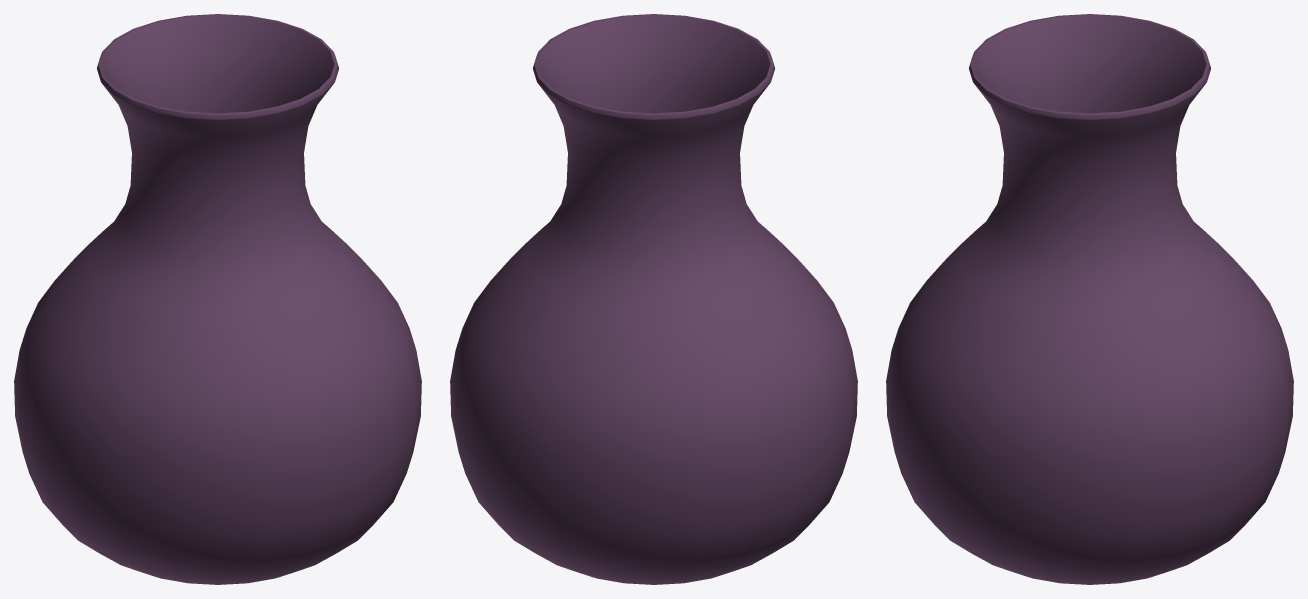
File: Vase_V1.fbx
3 views of the same model, side by side, from view 1: azimuth 30°, elevation 25°; view 2: azimuth 150°, elevation 25°; view 3: azimuth 270°, elevation 25° (orthographic).
Parts seen in each view (by area): view 1: NurbsPath; view 2: NurbsPath; view 3: NurbsPath.
Part boxes in pixels (x1,y1,x2,y2): NurbsPath: (14, 14, 421, 584); NurbsPath: (450, 14, 857, 584); NurbsPath: (886, 14, 1293, 584).
Bounding box in the file's own units: 232 × 306 × 232.
